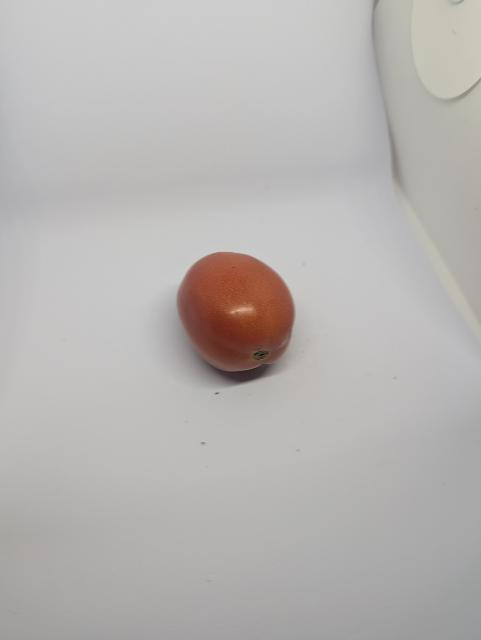red: (174, 249, 300, 380)
